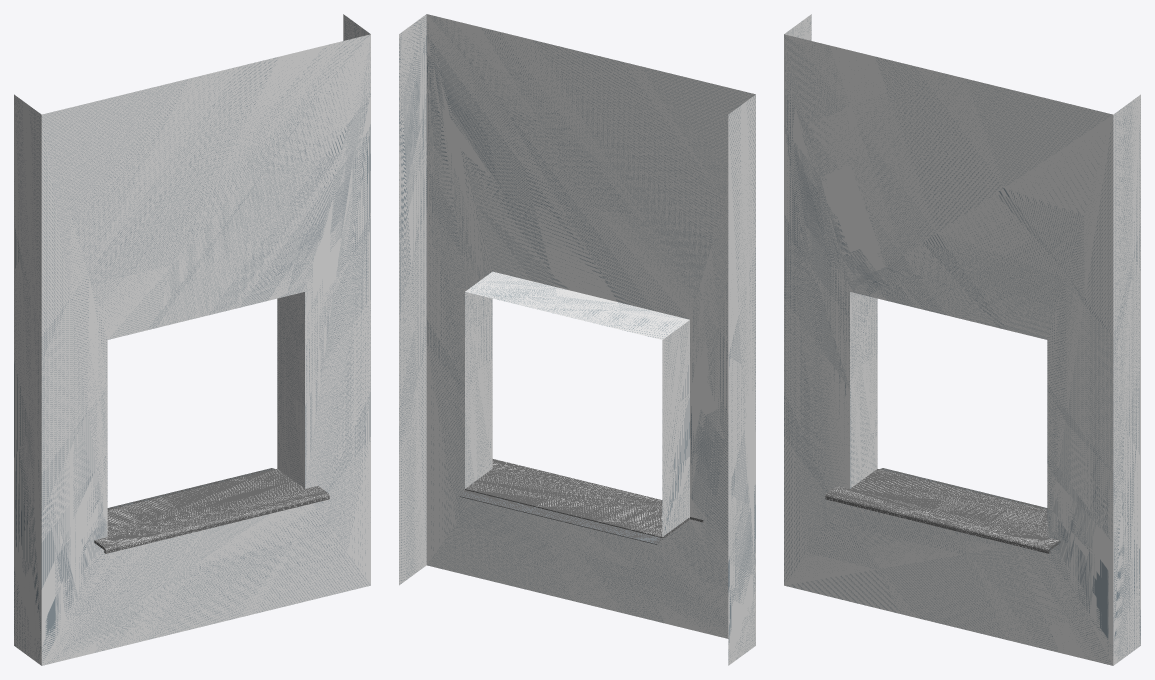
The model's file is WindowBlock_os_[250x400]_150x143x[080].dae.
The picture shows the model from 3 angles, left to right: view 1: azimuth 30°, elevation 25°; view 2: azimuth 150°, elevation 25°; view 3: azimuth 330°, elevation 25°; orthographic projection.
Parts seen in each view (by area): view 1: group_1 (×2), group_2; view 2: group_1 (×2), group_2 (×2); view 3: group_1 (×2), group_2.
Part boxes in pixels (<box>): group_1 (×2): <box>14,14,370,665</box>; group_2: <box>94,468,329,553</box>; group_1 (×2): <box>399,14,755,665</box>; group_2 (×2): <box>459,459,703,544</box>; group_1 (×2): <box>784,14,1140,665</box>; group_2: <box>825,468,1059,553</box>.
Bounding box in the file's own units: 98.43 × 23.03 × 157.
